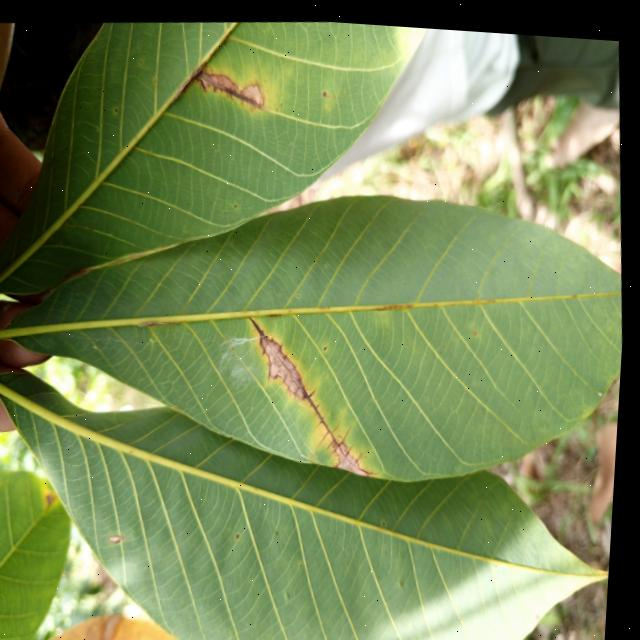Colletotrichum: (243, 529, 245, 533)
Corynespora: (246, 305, 350, 447), (223, 78, 262, 106)
Leaf-Blight: (197, 64, 265, 103), (339, 435, 374, 472)
